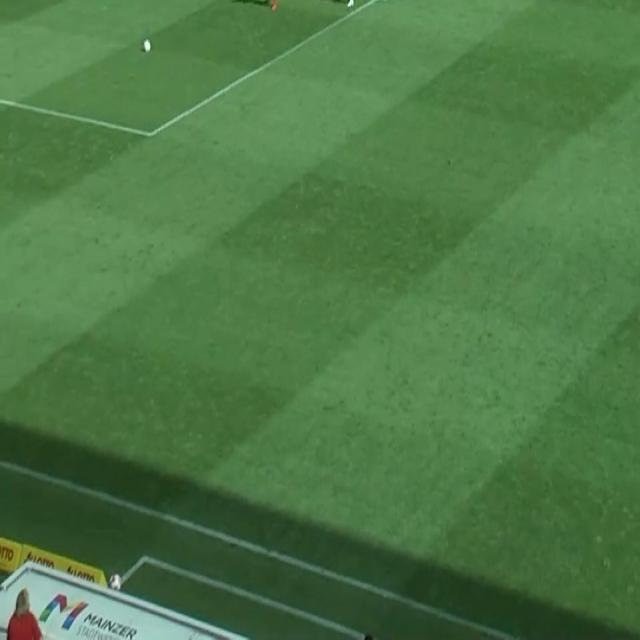ball: (144, 38, 150, 52)
